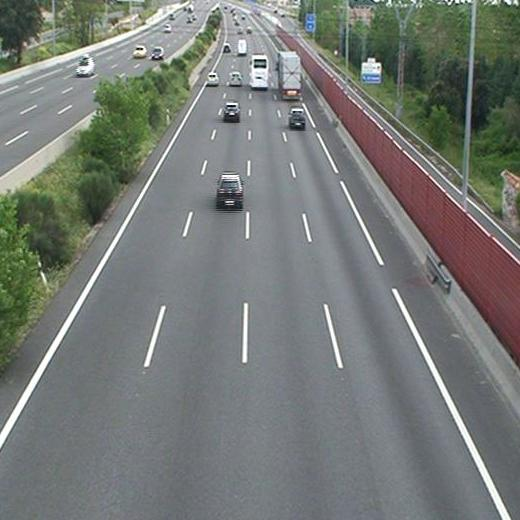bus: (252, 56, 269, 87)
car: (216, 174, 242, 205), (289, 108, 306, 128), (225, 104, 240, 119), (205, 74, 220, 85), (229, 73, 242, 85), (224, 43, 232, 53)
truck: (279, 52, 300, 98)
van: (236, 40, 247, 55)
